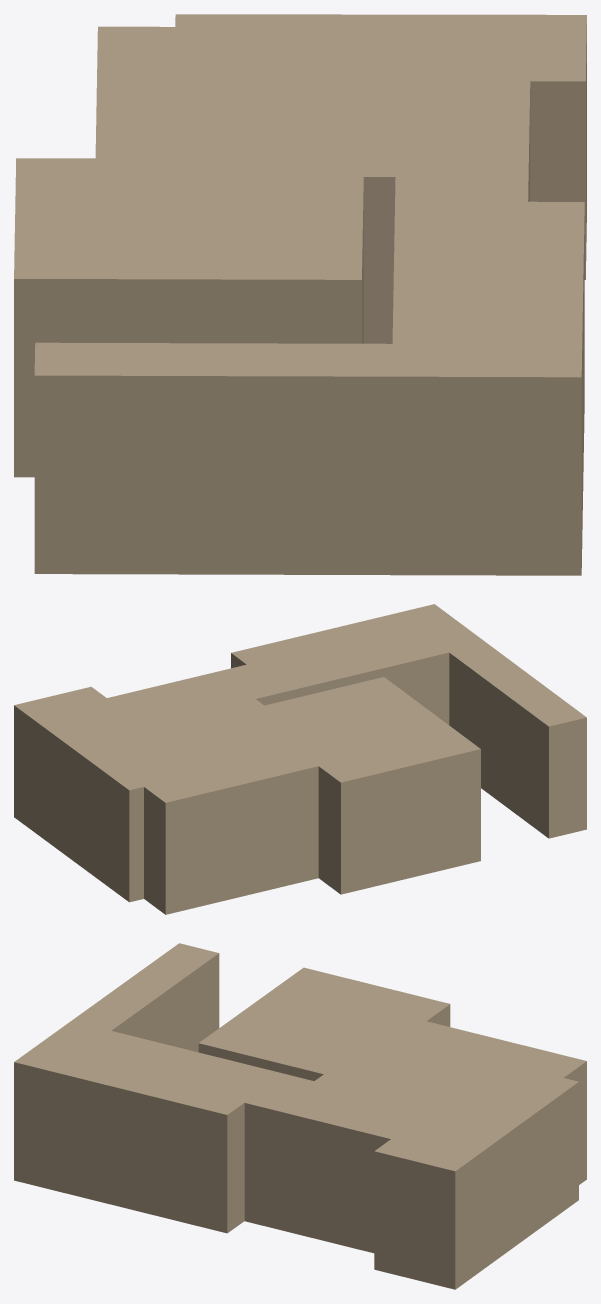
The model's file is bld_977330734.dae.
The picture shows the model from 3 angles, top to bottom: view 1: azimuth 30°, elevation 25°; view 2: azimuth 150°, elevation 25°; view 3: azimuth 270°, elevation 25°; orthographic projection. The views are drawn at different scales.
Visible parts, largest first — view 1: bld_977330734; view 2: bld_977330734; view 3: bld_977330734.
Boxes of the visible parts, x1,y1,x2,y2 form: bld_977330734: (14,14,586,575); bld_977330734: (14,604,586,914); bld_977330734: (14,943,586,1289).
Size of the model in its own units: 49.59 by 52.62 by 12.
